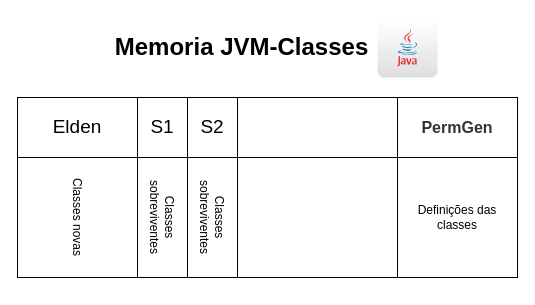
Some shapes in this 535 by 305 pixel diagram are drawn without their labels. Here are the shapes that lost their labels. From the top down, the centre of each, then its label:
At (x=317, y=127): "Old Generation".
At (x=317, y=217): "Classes sobreviventes do S1 & S2".
